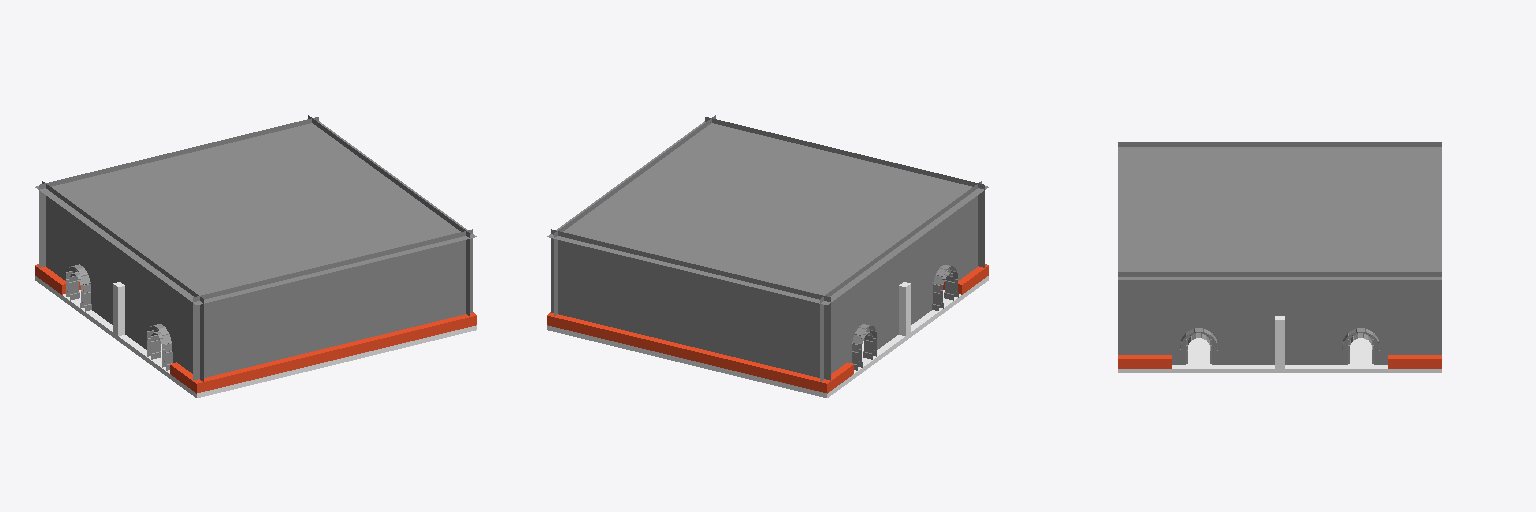
The model's file is bigDoubleStraight.obj.
3 views of the same model, side by side, from view 1: azimuth 30°, elevation 25°; view 2: azimuth 150°, elevation 25°; view 3: azimuth 270°, elevation 25° (orthographic).
Visible parts, largest first — view 1: struct_ceiling_24, struct_wall_main_half_21, struct_wall_main_half_22, open_block_1, block_default_0, struct_wall_main_half_14, struct_wall_main_half_20, struct_door_11, struct_door_10, struct_wall_main_half_23, struct_wall_main_half_19, struct_wall_main_half_18 (+1 smaller); view 2: struct_ceiling_24, struct_wall_main_half_20, struct_wall_main_half_22, open_block_2, block_default_0, struct_wall_main_half_14, struct_wall_main_half_21, struct_door_10, struct_door_11, struct_wall_main_half_23, struct_wall_main_half_18, struct_wall_main_half_19 (+1 smaller); view 3: struct_ceiling_24, struct_wall_main_half_23, struct_wall_main_half_15, block_default_0, struct_wall_main_half_16, struct_wall_main_half_17, struct_door_12, struct_door_13, struct_wall_main_half_22, open_block_1, open_block_2, block_default_9.
Boxes of the visible parts, x1,y1,x2,y2 form: struct_ceiling_24: [35, 121, 476, 304]; struct_wall_main_half_21: [193, 229, 472, 380]; struct_wall_main_half_22: [42, 181, 203, 342]; open_block_1: [170, 312, 476, 393]; block_default_0: [35, 276, 476, 397]; struct_wall_main_half_14: [96, 265, 149, 349]; struct_wall_main_half_20: [39, 117, 318, 267]; struct_door_11: [66, 245, 95, 312]; struct_door_10: [147, 304, 176, 370]; struct_wall_main_half_23: [308, 115, 469, 276]; struct_wall_main_half_19: [46, 228, 68, 280]; struct_wall_main_half_18: [177, 324, 203, 381]; struct_ceiling_24: [547, 121, 988, 304]; struct_wall_main_half_20: [551, 229, 830, 380]; struct_wall_main_half_22: [820, 181, 981, 342]; open_block_2: [547, 312, 853, 393]; block_default_0: [547, 276, 988, 397]; struct_wall_main_half_14: [874, 265, 927, 349]; struct_wall_main_half_21: [705, 117, 984, 267]; struct_door_10: [928, 245, 958, 312]; struct_door_11: [847, 304, 876, 370]; struct_wall_main_half_23: [554, 115, 715, 276]; struct_wall_main_half_18: [955, 228, 977, 280]; struct_wall_main_half_19: [820, 324, 846, 381]; struct_ceiling_24: [1118, 147, 1441, 279]; struct_wall_main_half_23: [1118, 272, 1441, 315]; struct_wall_main_half_15: [1226, 316, 1333, 364]; block_default_0: [1118, 338, 1441, 372]; struct_wall_main_half_16: [1388, 316, 1441, 354]; struct_wall_main_half_17: [1118, 316, 1171, 354]; struct_door_12: [1334, 316, 1387, 364]; struct_door_13: [1172, 316, 1225, 364]; struct_wall_main_half_22: [1118, 142, 1441, 146]; open_block_1: [1118, 355, 1171, 368]; open_block_2: [1388, 355, 1441, 368]; block_default_9: [1275, 316, 1284, 368].
Size of the model in its own units: 6 by 2 by 6.